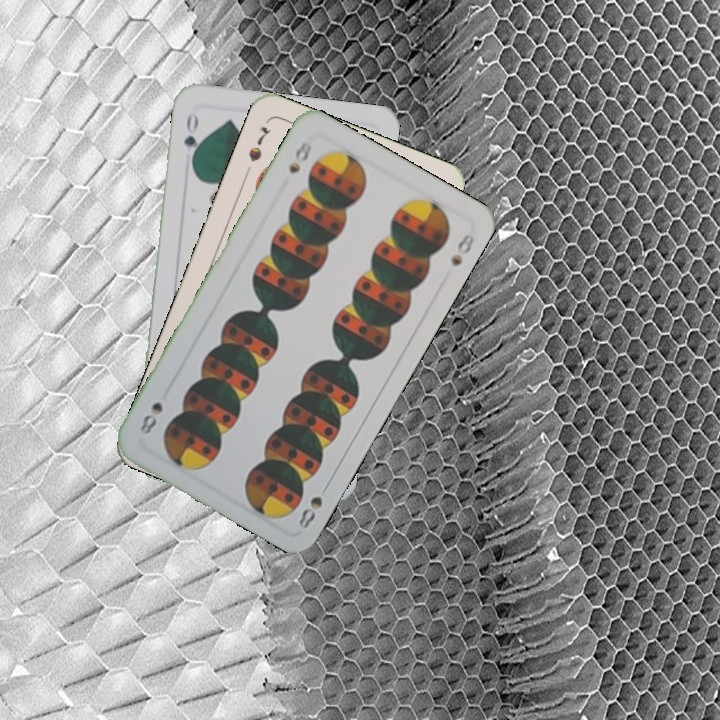GO: (179, 109, 202, 167)
S7: (244, 122, 273, 165)
S8: (294, 478, 333, 531), (284, 136, 315, 176)
